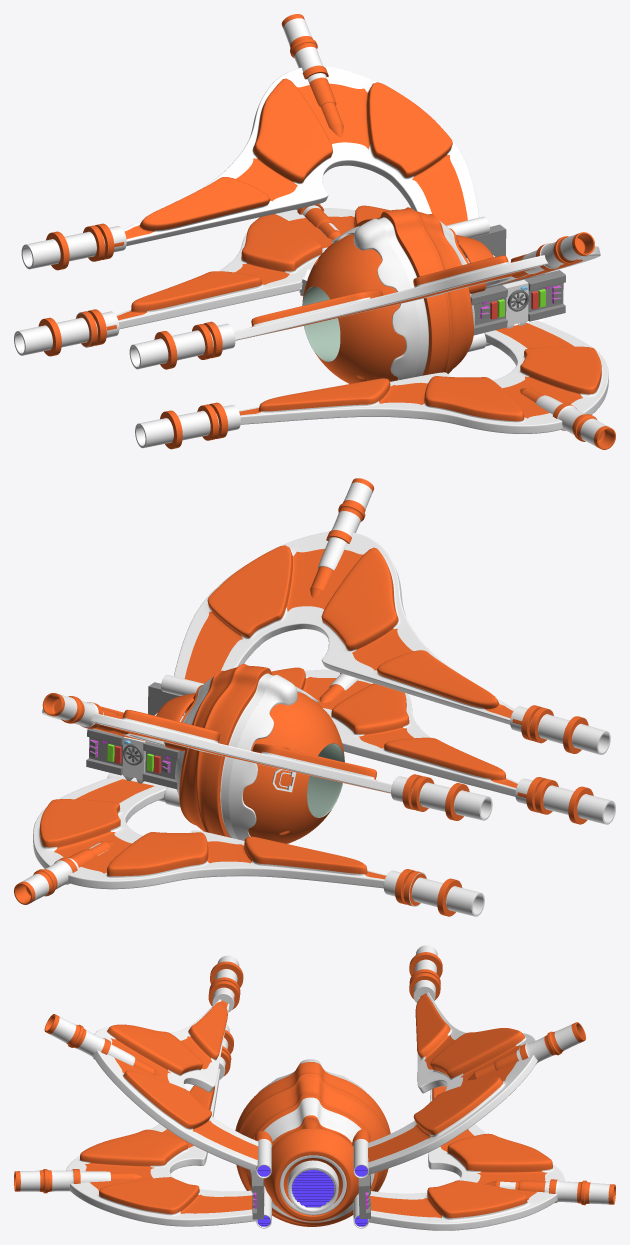
Rendered from spaceship.fbx.
3 renders of one model, top to bottom at view 1: azimuth 30°, elevation 25°; view 2: azimuth 150°, elevation 25°; view 3: azimuth 270°, elevation 25°, orthographic. The views are drawn at different scales.
Visible parts, largest first — view 1: pCube214, pCube157, pSphere9, pCube158, pSphere11, pCube215, pCylinder349, pCylinder49, pCylinder51, pCylinder348, blaster9, blaster7 (+8 smaller); view 2: pCube215, pCube158, pSphere9, pCube157, pSphere11, pCube214, pCylinder348, pCylinder49, pCylinder349, pCylinder51, blaster10, blaster8 (+6 smaller); view 3: pCube214, pCube215, pCube158, pCube157, pSphere9, pCylinder350, pCylinder41 (×3), blaster8, blaster7, blaster9, blaster10, pCylinder348 (+4 smaller).
Part boxes in pixels (<box>): pCube214: <box>123,66,479,245</box>; pCube157: <box>239,320,608,433</box>; pSphere9: <box>302,207,475,380</box>; pCube158: <box>116,205,389,329</box>; pSphere11: <box>302,234,405,383</box>; pCube215: <box>234,246,600,340</box>; pCylinder349: <box>129,321,235,369</box>; pCylinder49: <box>14,309,119,356</box>; pCylinder51: <box>135,402,240,449</box>; pCylinder348: <box>21,223,126,270</box>; blaster9: <box>281,14,343,136</box>; blaster7: <box>520,388,615,449</box>; pCube215: <box>174,531,514,724</box>; pCube158: <box>33,777,386,889</box>; pSphere9: <box>175,663,344,843</box>; pCube157: <box>271,667,518,796</box>; pSphere11: <box>242,692,344,843</box>; pCube214: <box>42,706,392,793</box>; pCylinder348: <box>391,774,492,820</box>; pCylinder49: <box>383,869,484,916</box>; pCylinder349: <box>510,705,610,754</box>; pCylinder51: <box>515,777,615,824</box>; blaster10: <box>310,478,374,597</box>; blaster8: <box>14,841,113,904</box>; pCube214: <box>368,992,537,1174</box>; pCube215: <box>93,999,258,1171</box>; pCube158: <box>369,1086,564,1230</box>; pCube157: <box>66,1069,256,1226</box>; pSphere9: <box>235,1059,390,1226</box>; pCylinder350: <box>264,1128,358,1221</box>; pCylinder41 (×3): <box>255,1129,370,1212</box>; blaster8: <box>486,1179,615,1205</box>; blaster7: <box>14,1169,141,1193</box>; blaster9: <box>468,1022,585,1080</box>; blaster10: <box>44,1014,159,1075</box>; pCylinder348: <box>409,945,442,1002</box>.
Size of the model in its own units: 8.59 by 4.68 by 11.52.
